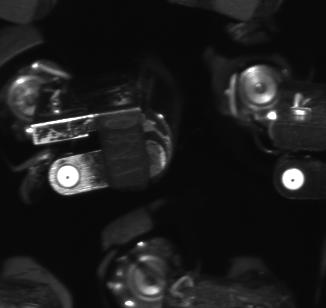fiber: (52, 163, 86, 190), (279, 166, 309, 193)
